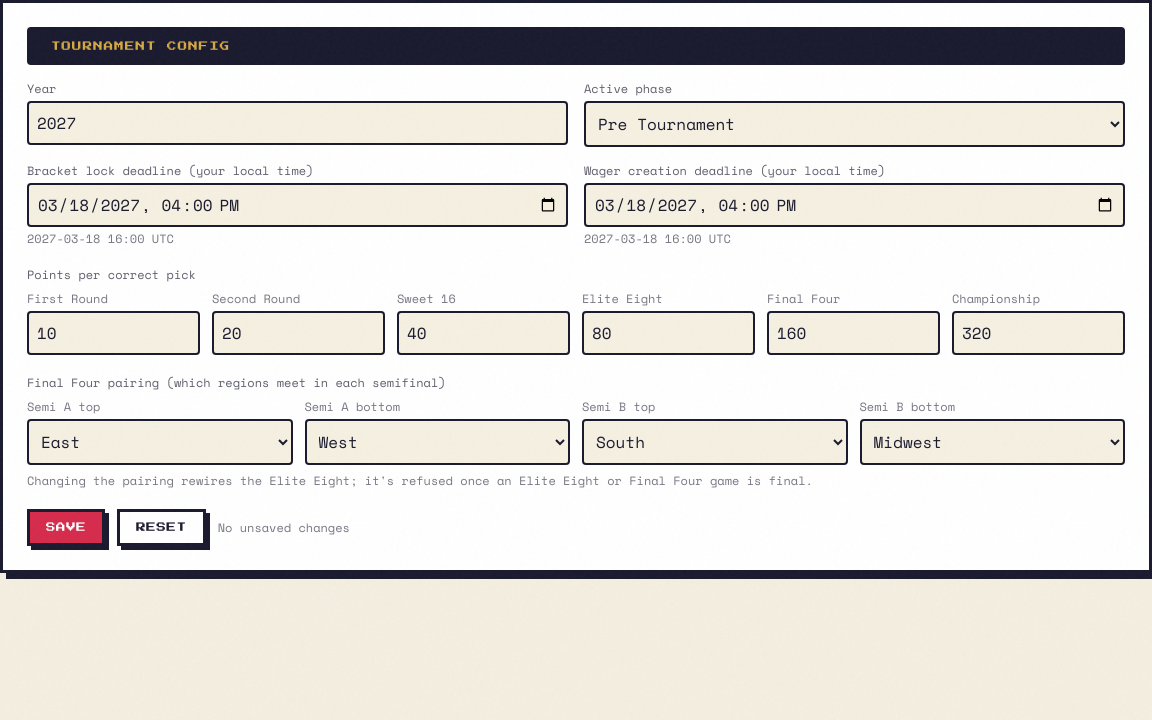
it: ConfigForm › blocks Save when the Final Four pairing repeats a region and surfaces a 409 from the API
Select "east" in the dropdown labelled "Semi A bottom" at (437, 442), box [304,419,570,465]
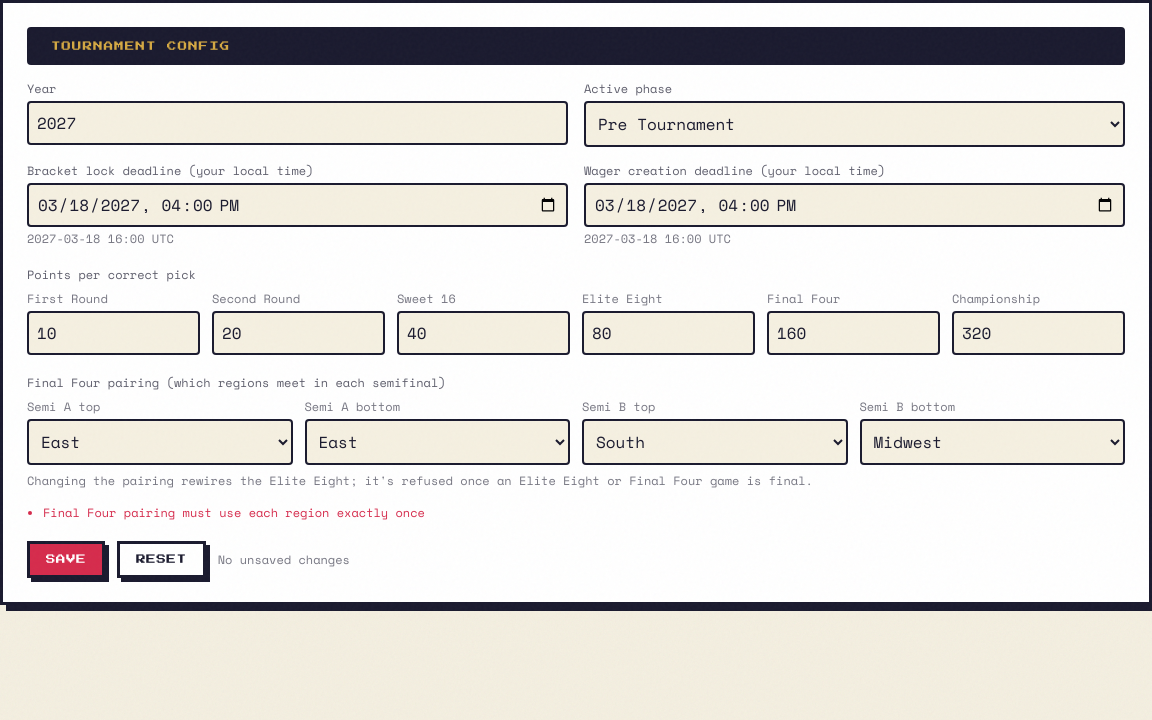
Check: the button "Save" is disabled, box [27,541,105,578]
Check: the message shows "each region exactly once", box [43,504,425,521]
Note: Swap to a valid but different pairing.
Select "south" in the dropdown labelled "Semi A bottom" at (437, 442), box [304,419,570,465]
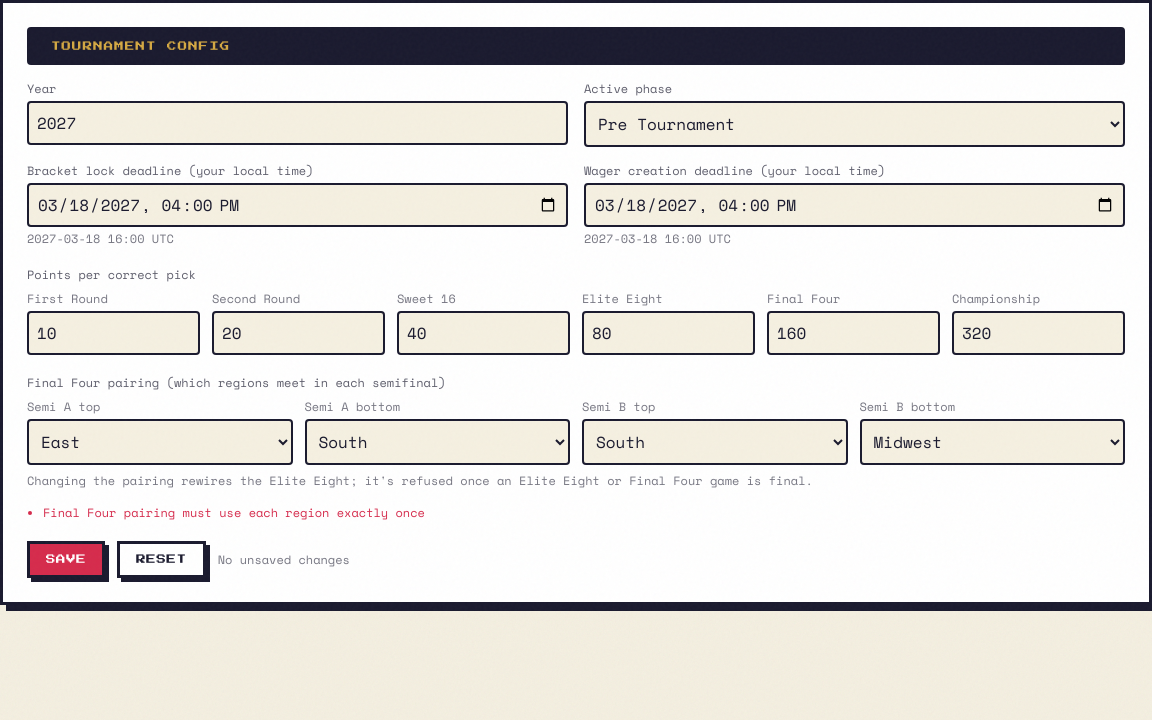
Select "west" in the dropdown labelled "Semi B top" at (715, 442), box [582,419,848,465]
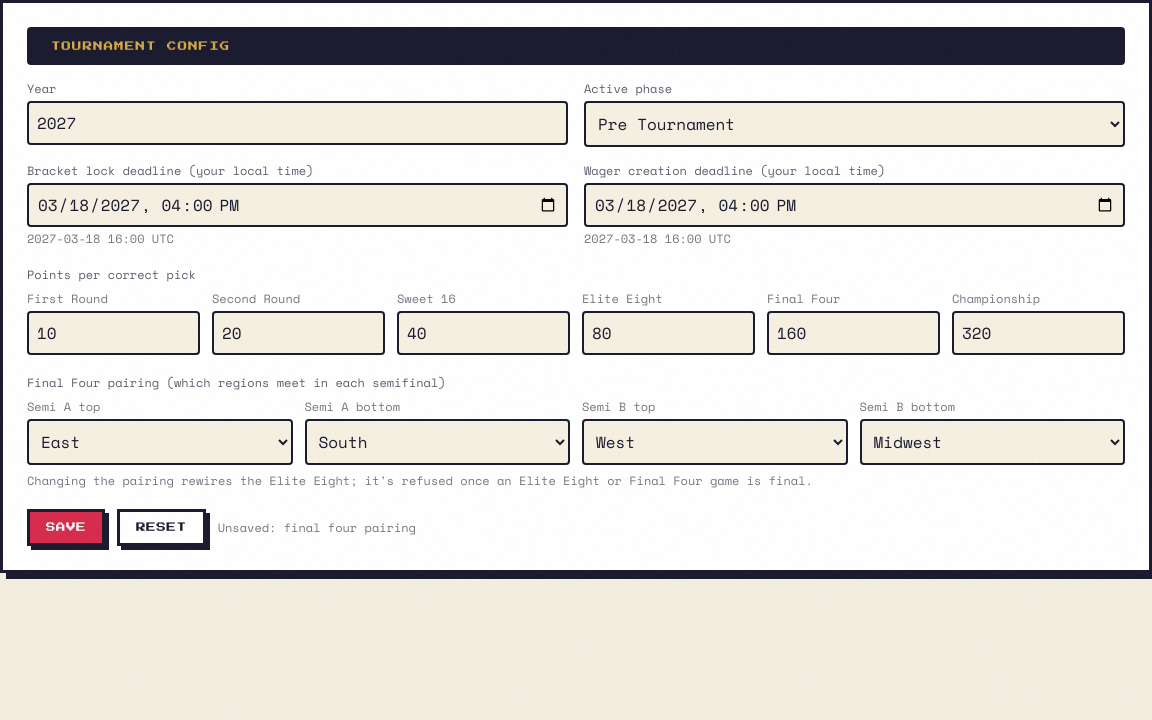
Check: the button "Save" is enabled
Click the button "Save" at (66, 528), box [27,509,105,546]
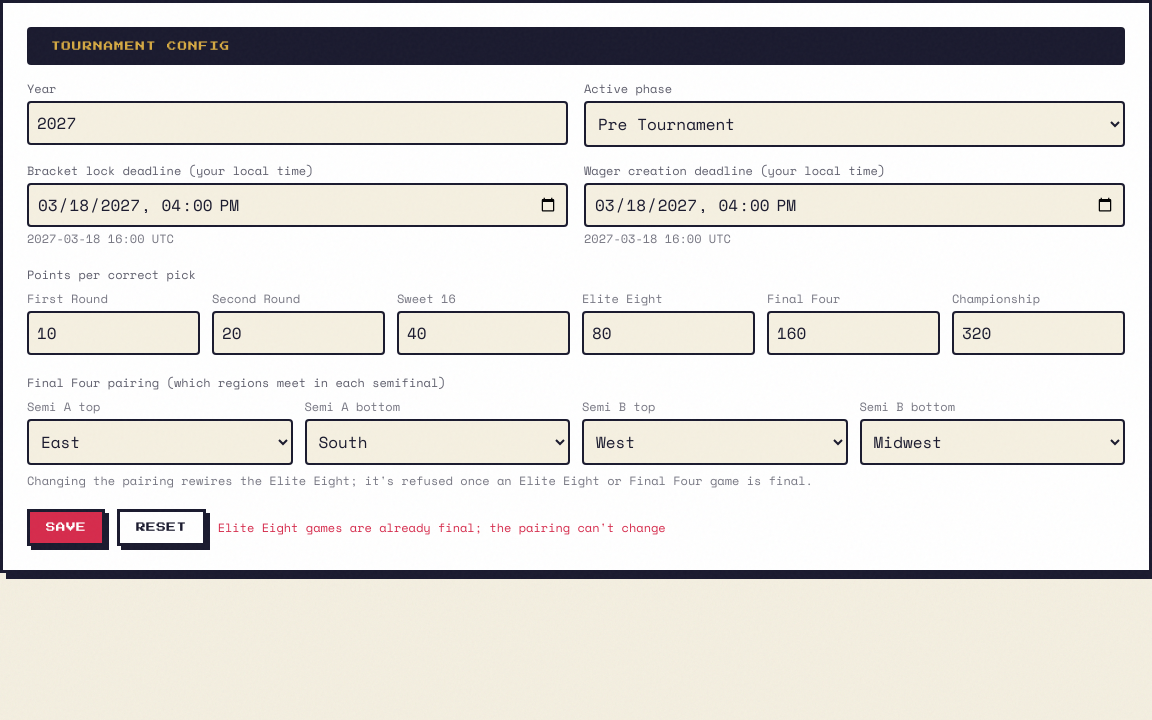
Check: the text "already final" is shown, box [218,519,666,536]
